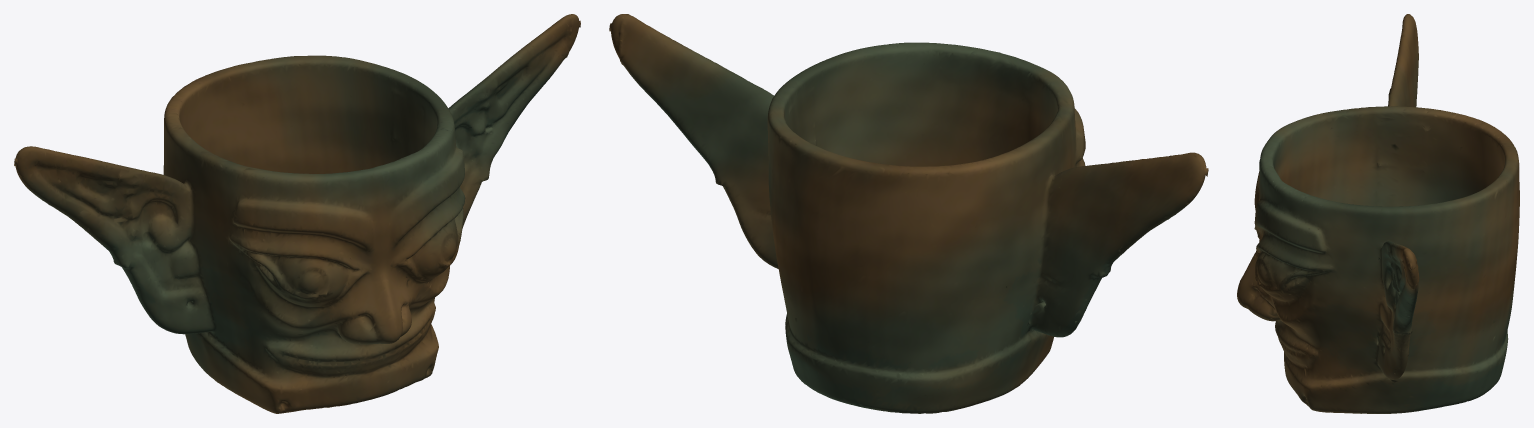
Rendered from zongmu.glb.
3 views of the same model, side by side, from view 1: azimuth 30°, elevation 25°; view 2: azimuth 150°, elevation 25°; view 3: azimuth 270°, elevation 25° (orthographic). The views are drawn at different scales.
Parts seen in each view (by area): view 1: model; view 2: model; view 3: model.
Part boxes in pixels (box(x1,y1,x2,y2)): model: box(14, 14, 580, 413); model: box(609, 14, 1208, 413); model: box(1237, 14, 1519, 413).
Size of the model in its own units: 1 by 0.4688 by 0.4869.
